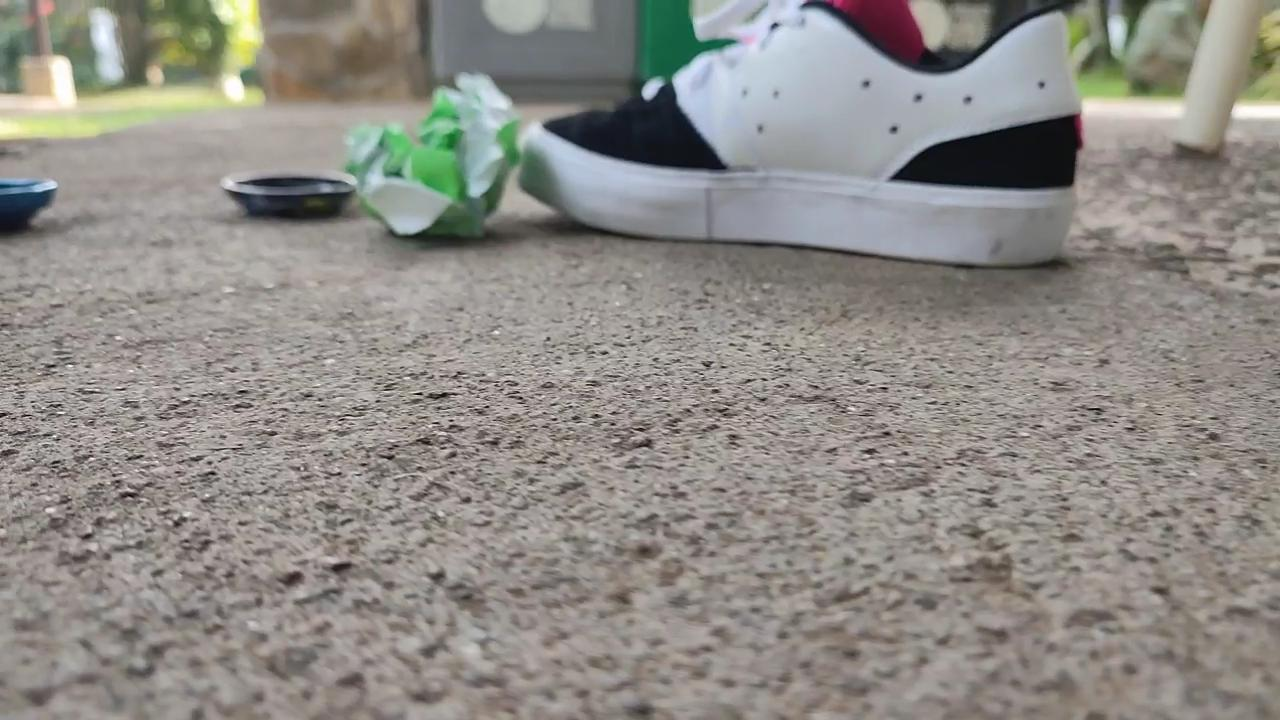Paper: (331, 55, 522, 247)
